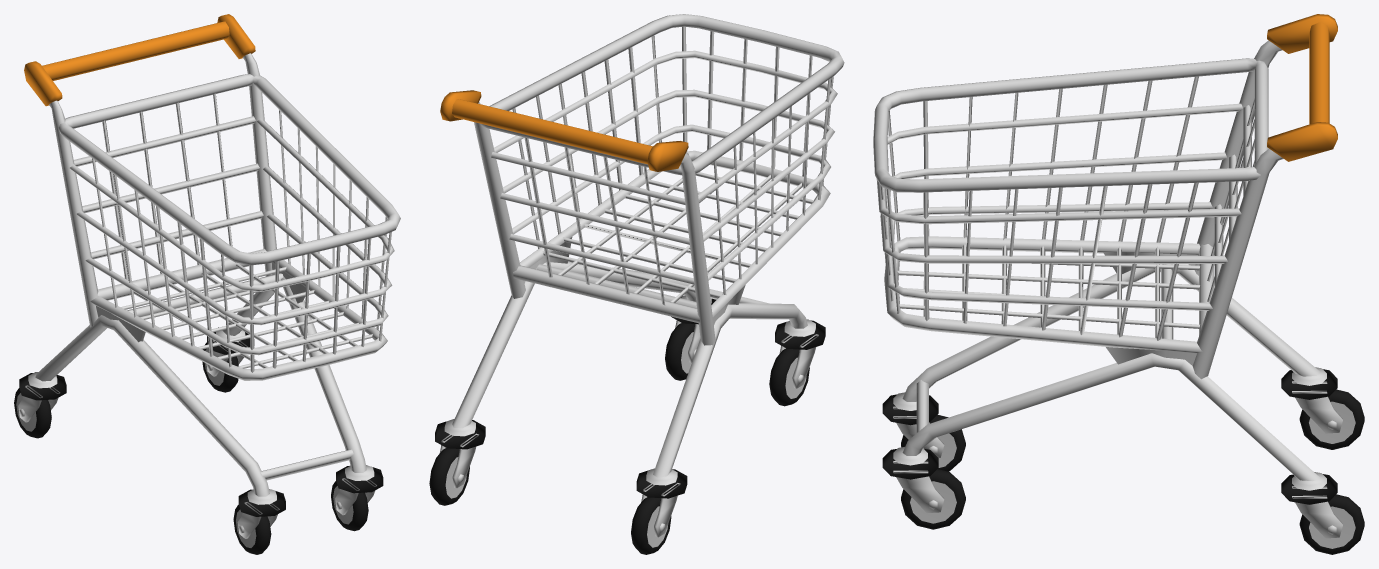
Rendered from shoppingCart.glb.
3 views of the same model, side by side, from view 1: azimuth 30°, elevation 25°; view 2: azimuth 150°, elevation 25°; view 3: azimuth 270°, elevation 25° (orthographic). The views are drawn at different scales.
Visible parts, largest first — view 1: Einkaufswagen_0; view 2: Einkaufswagen_0; view 3: Einkaufswagen_0.
Boxes of the visible parts, x1=… form: Einkaufswagen_0: x1=14, y1=14, x2=400, y2=554; Einkaufswagen_0: x1=429, y1=14, x2=844, y2=554; Einkaufswagen_0: x1=873, y1=14, x2=1364, y2=554.
Size of the model in its own units: 0.333 by 0.521 by 0.5384.
